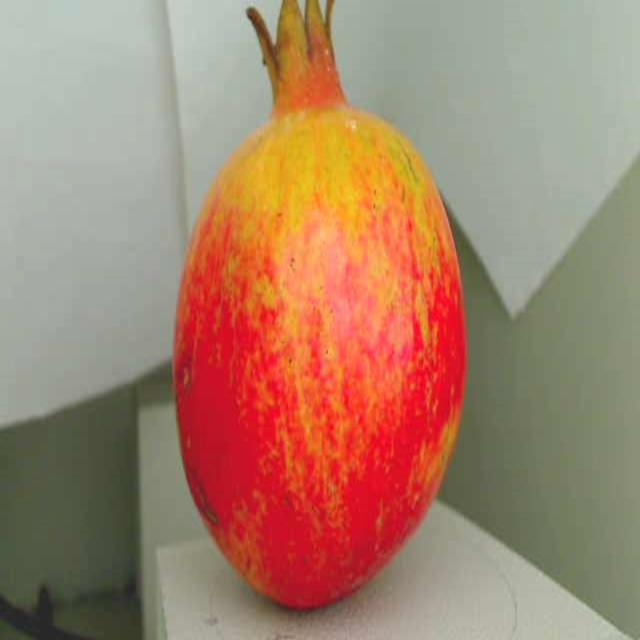pomegranate: (164, 0, 483, 612)
